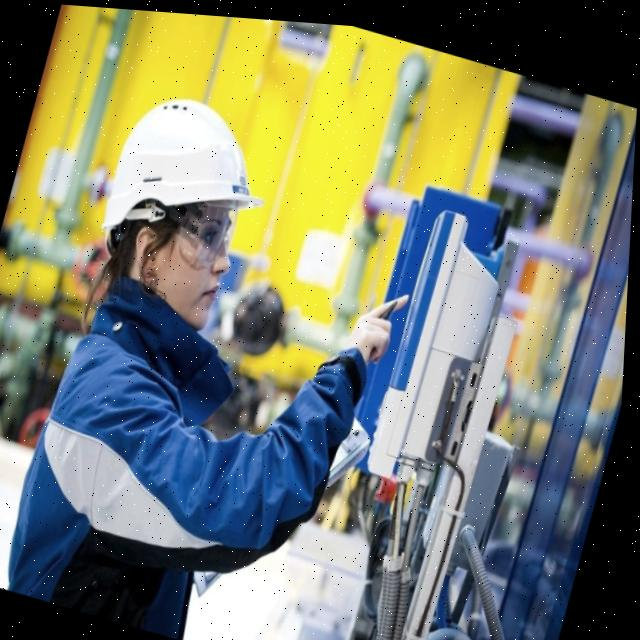illegal_helmet: (68, 64, 294, 355)
